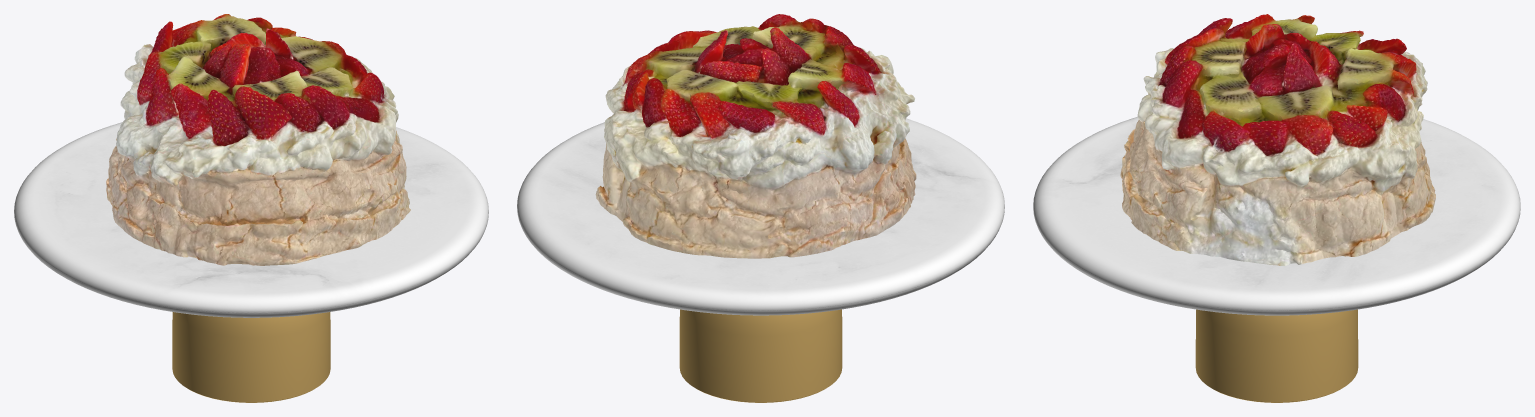
File: Pavlova_cake_stand_firsttry.glb
3 renders of one model, left to right at view 1: azimuth 30°, elevation 25°; view 2: azimuth 150°, elevation 25°; view 3: azimuth 270°, elevation 25°, orthographic. The views are drawn at different scales.
Visible parts, largest first — view 1: Object_2, Plate_Top, Stand_Base; view 2: Object_2, Plate_Top, Stand_Base; view 3: Object_2, Plate_Top, Stand_Base.
Part boxes in pixels (<box>): Object_2: <box>106,14,410,265</box>; Plate_Top: <box>14,122,488,317</box>; Stand_Base: <box>172,312,330,402</box>; Object_2: <box>595,14,916,258</box>; Plate_Top: <box>517,118,1004,315</box>; Stand_Base: <box>679,309,842,402</box>; Object_2: <box>1120,14,1435,265</box>; Plate_Top: <box>1033,117,1520,315</box>; Stand_Base: <box>1195,309,1358,402</box>.
Bounding box in the file's own units: 0.3 × 0.2307 × 0.3.
4 materials, 2 textured.
